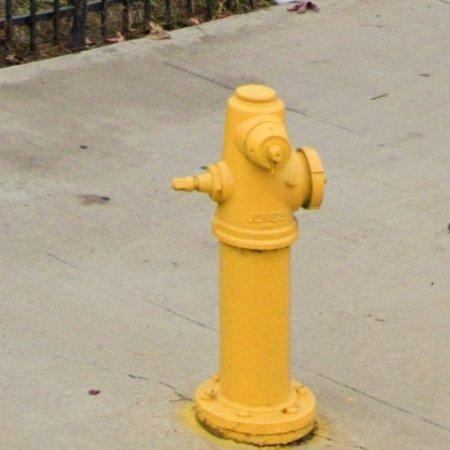a fire hydrant: (172, 84, 326, 446)
